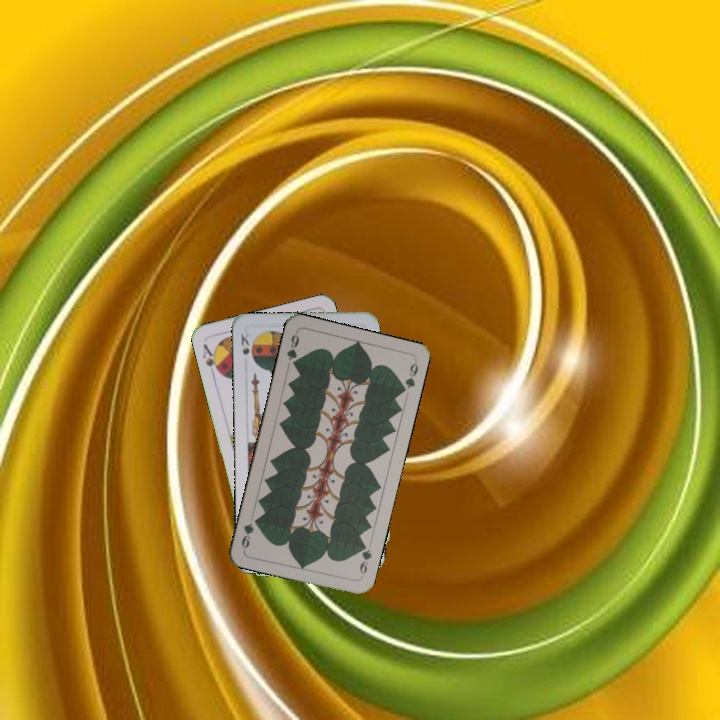G9: (283, 328, 302, 370), (355, 539, 374, 580)
SA: (198, 340, 223, 379)
SK: (237, 329, 252, 357)
